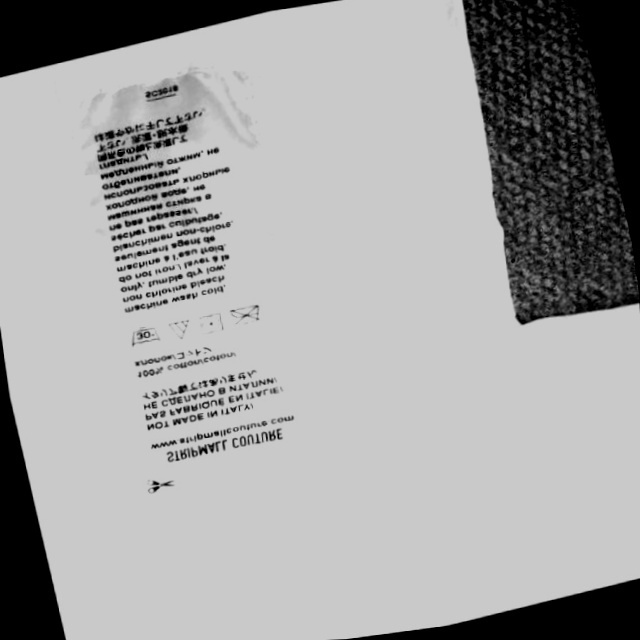30C: (125, 323, 163, 348)
DN_iron: (229, 301, 267, 331)
non_chlorine_bleach: (166, 317, 193, 341)
tumble_dry_low: (192, 311, 227, 336)
